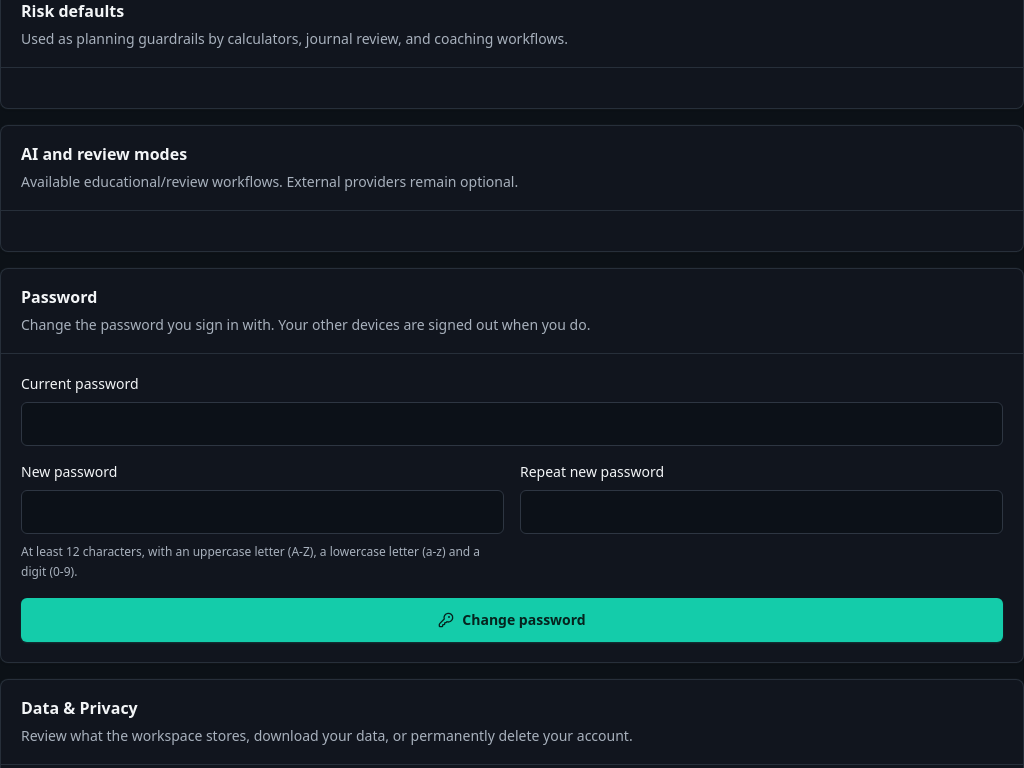
Test case: Settings password card (en) › the screen's own checks (nothing is sent) › takes a message away when its field is edited
(page scrolled)
Type "OldPassword123!" into the password field labelled "Current password" at {"x": 512, "y": 424}, box [21, 402, 1003, 446]
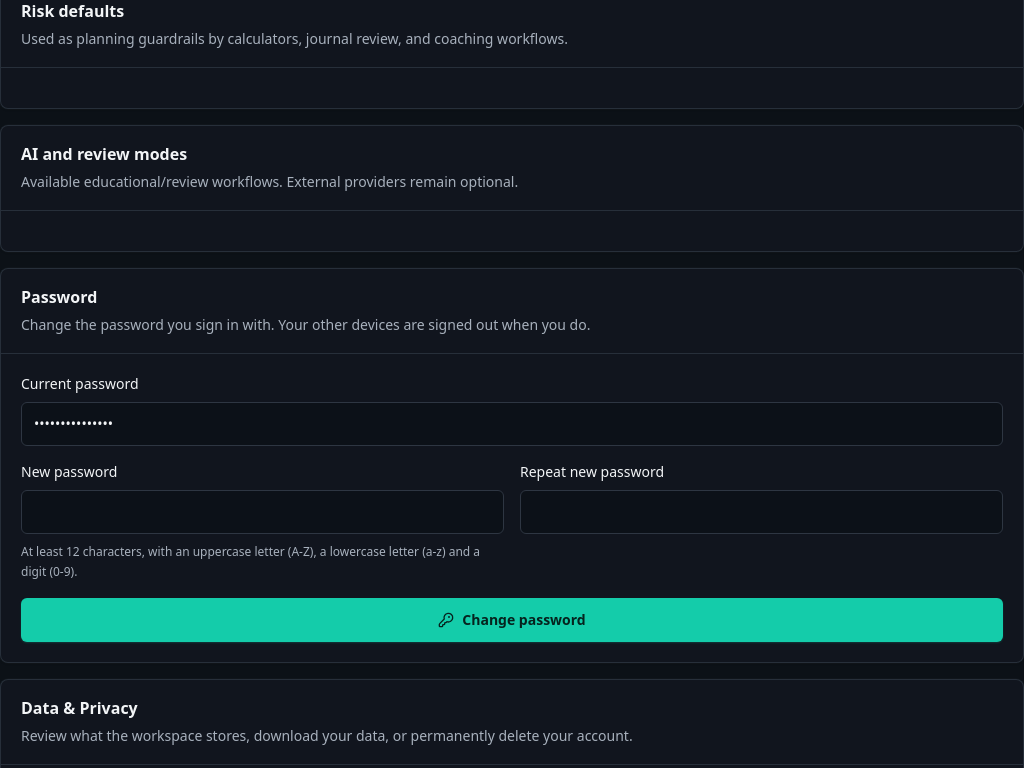
Type "NewPassword456!" into the password field labelled "New password" at {"x": 262, "y": 512}, box [21, 490, 504, 534]
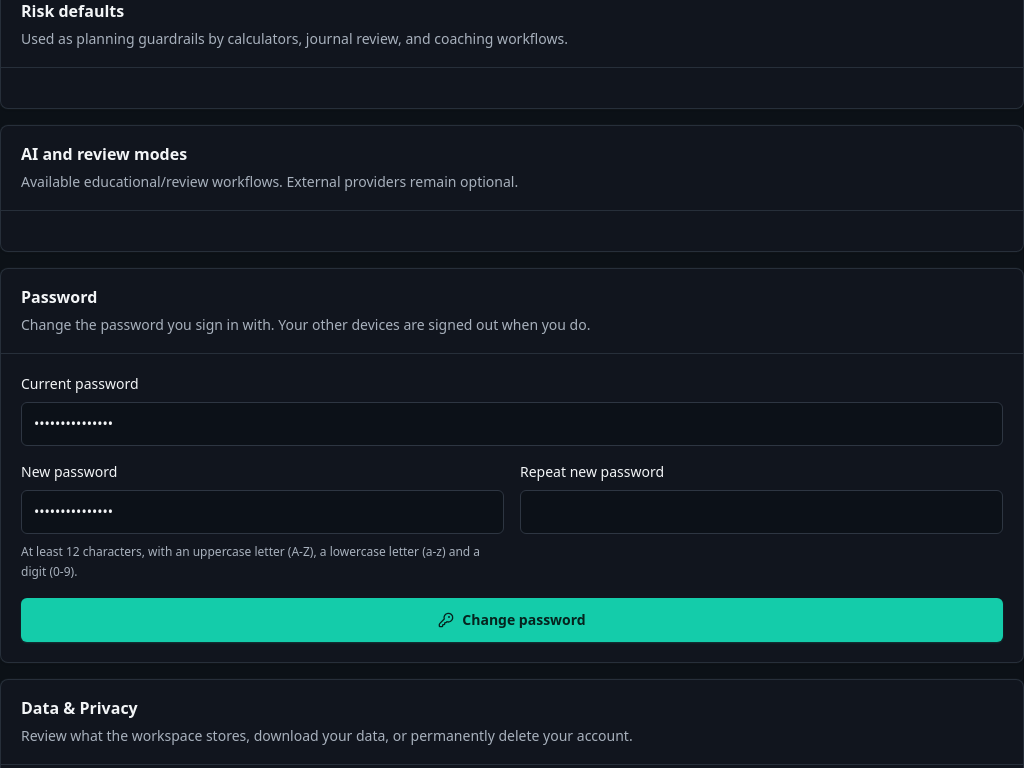
Type "different" into the password field labelled "Repeat new password" at {"x": 762, "y": 512}, box [520, 490, 1003, 534]
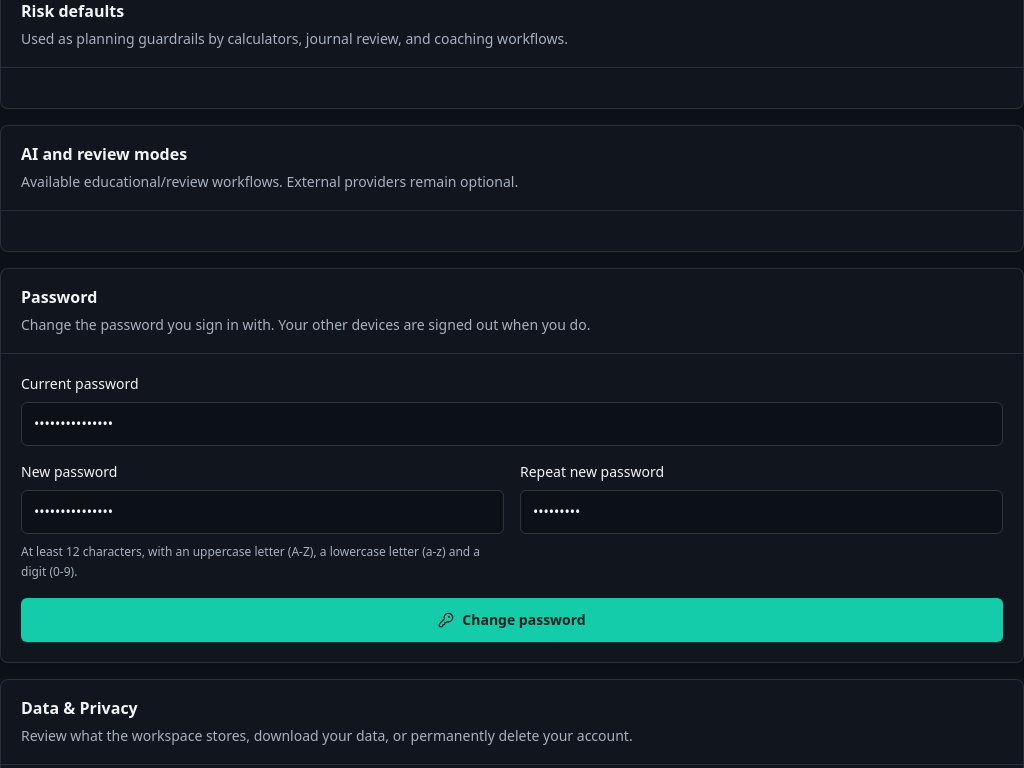
Submit the form labelled "Current password", box [21, 374, 1003, 642]
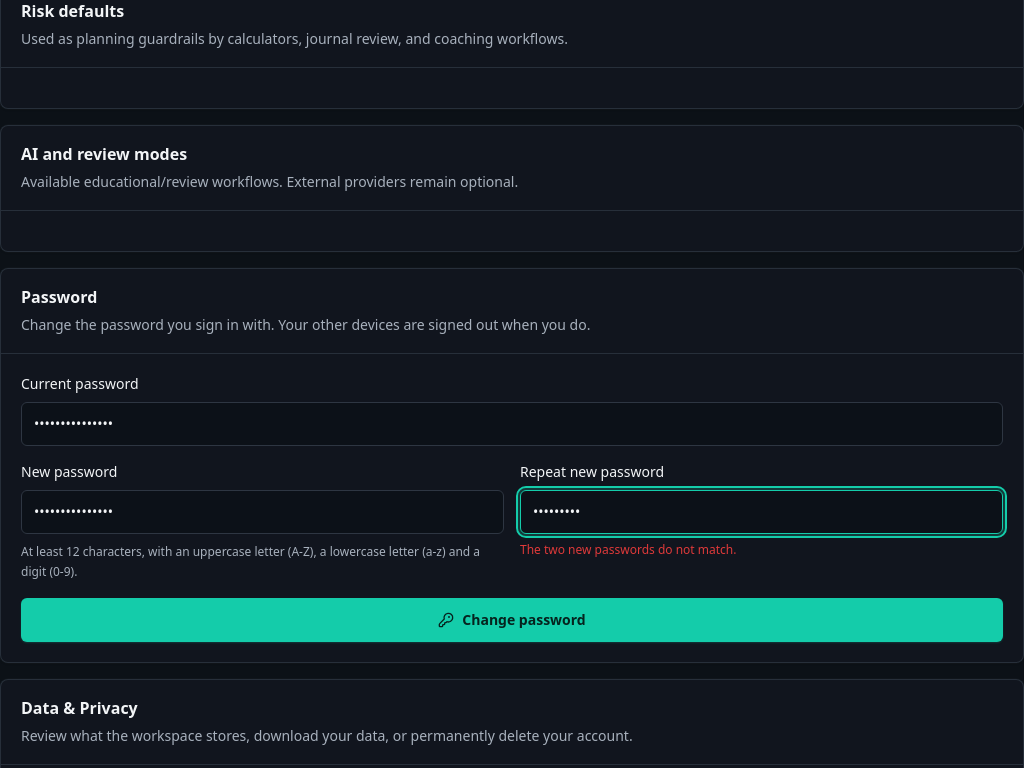
Expected: the text "The two new passwords do not match." is shown, [520, 541, 736, 558]
Type "NewPassword456!" into the password field labelled "Repeat new password" at {"x": 762, "y": 512}, box [520, 490, 1003, 534]
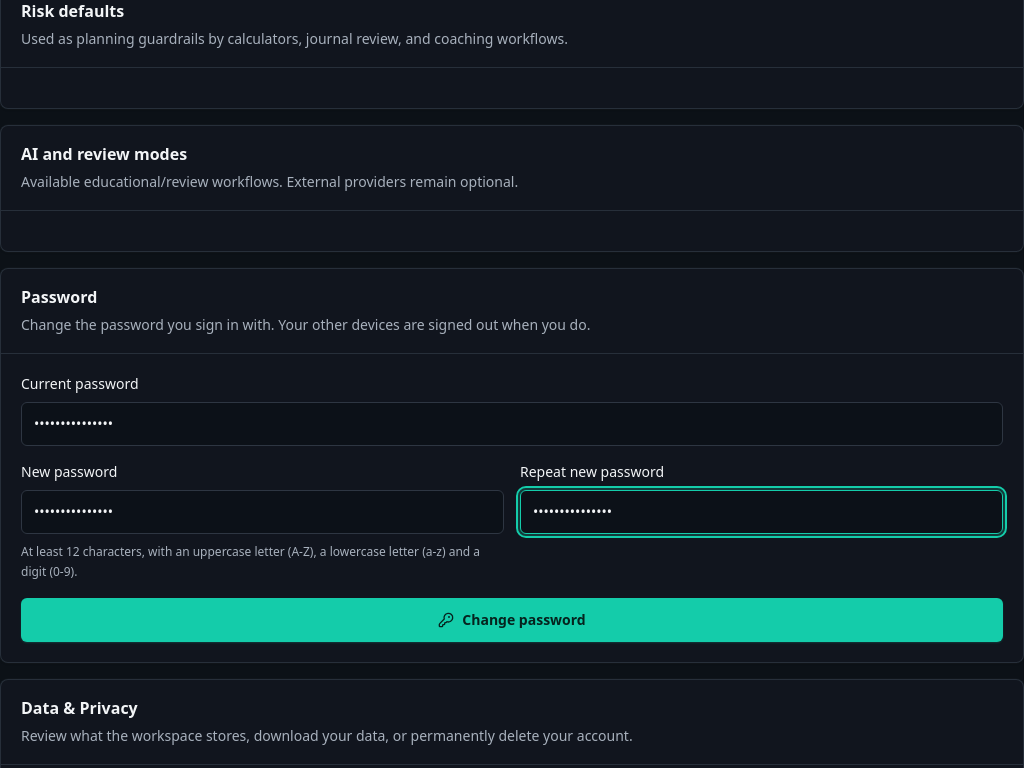
Expected: the text "The two new passwords do not match." is gone
